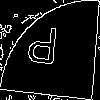P: (25, 25, 60, 74)
